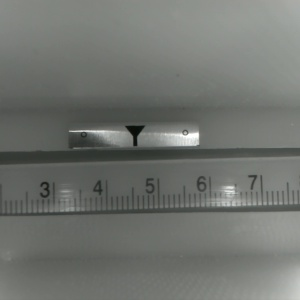3: (38, 182, 49, 198)
4: (93, 179, 103, 195)
5: (144, 177, 154, 194)
6: (195, 176, 205, 192)
7: (246, 175, 257, 190)
finger: (123, 126, 145, 147)
